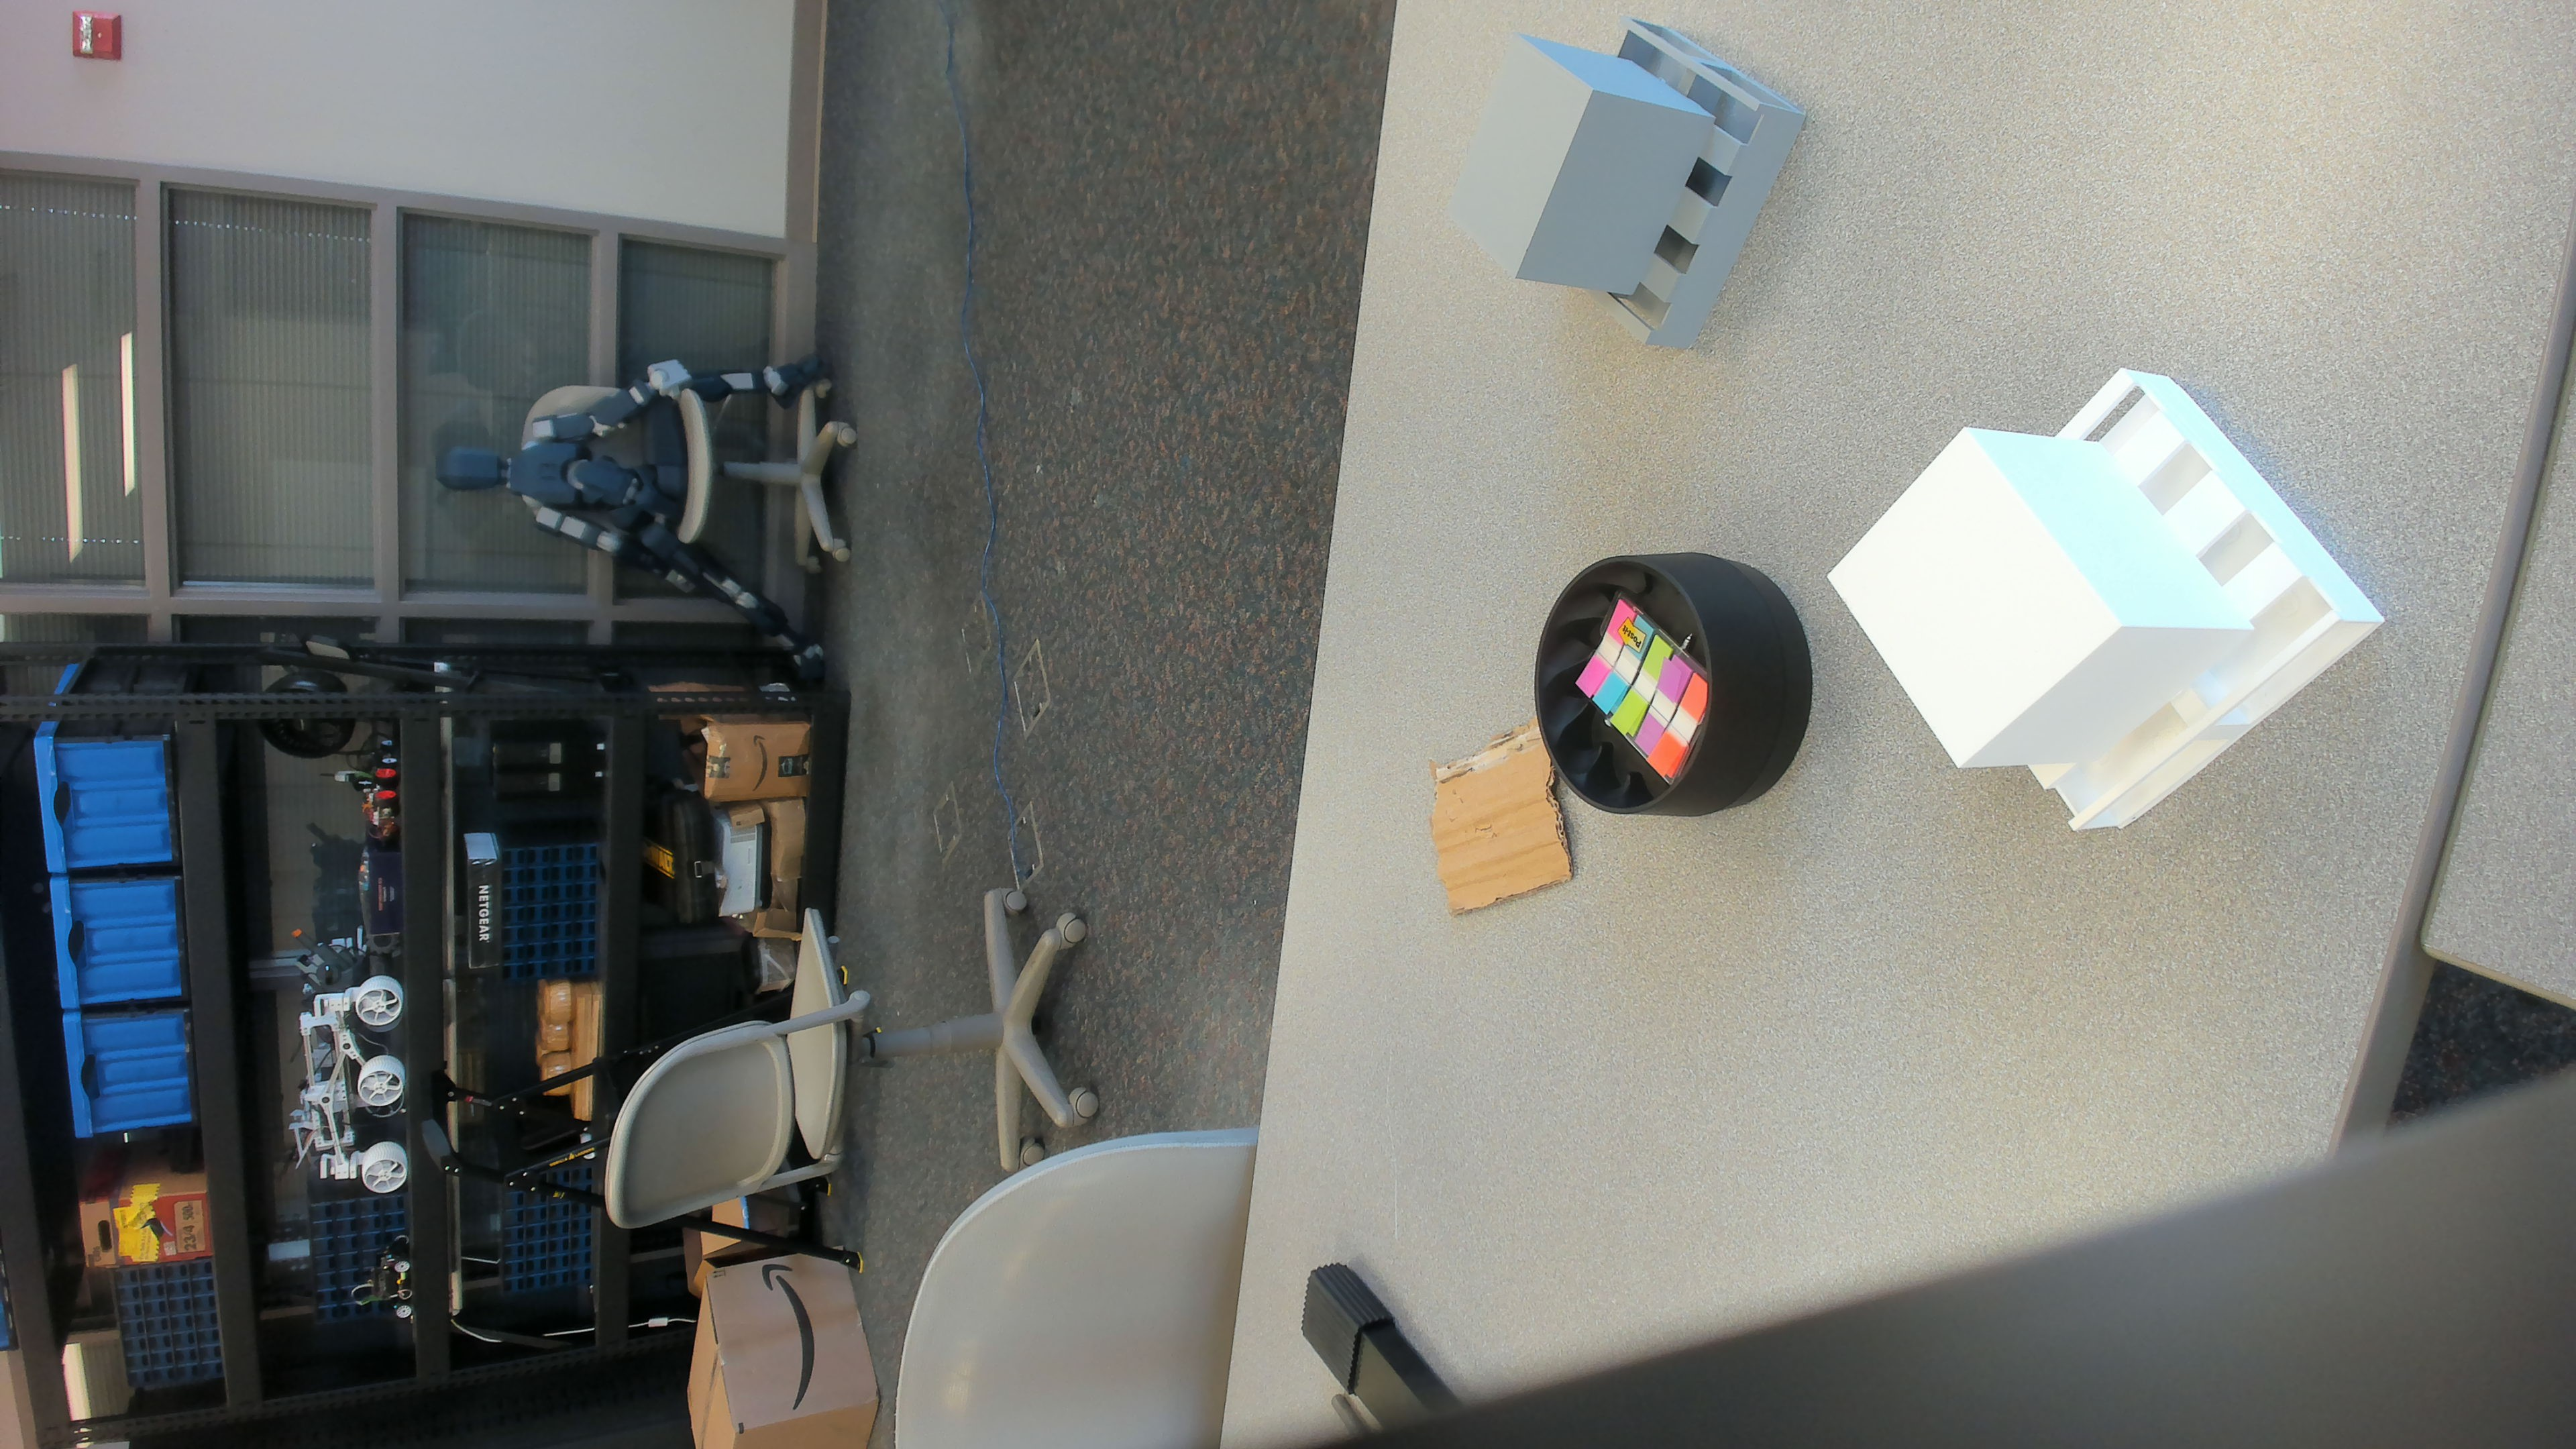grey pallet: (1440, 18, 1824, 366)
white pallet: (1819, 356, 2390, 853)
